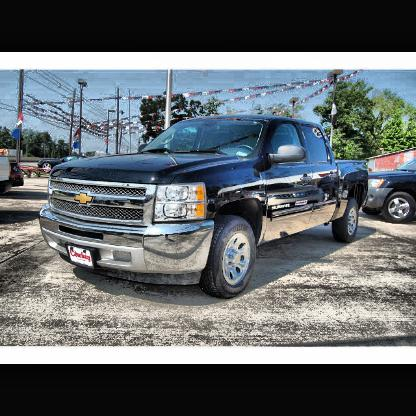Chevrolet Silverado 1500 Hybrid Crew Cab 2012: (39, 119, 367, 300)
